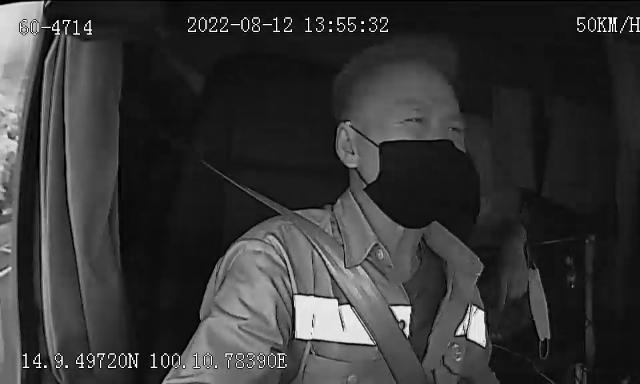SafeDriving: (392, 107, 430, 128), (439, 116, 470, 140)
Seatbelt: (245, 190, 430, 384)
